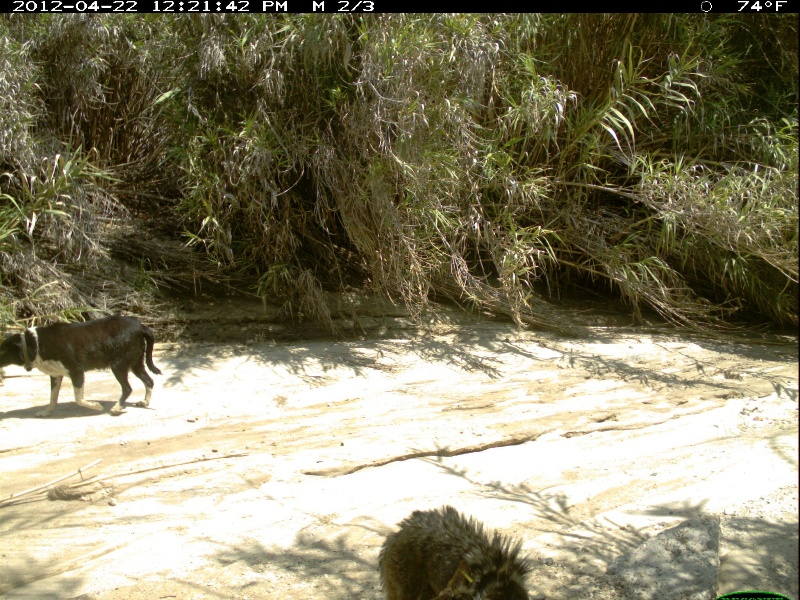dog: (1, 310, 161, 425), (358, 503, 533, 600)
